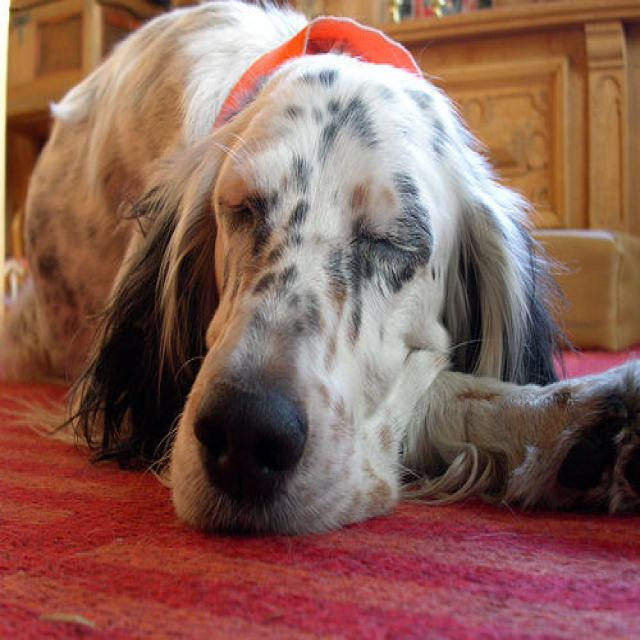dog-english_setter: (1, 2, 637, 548)
